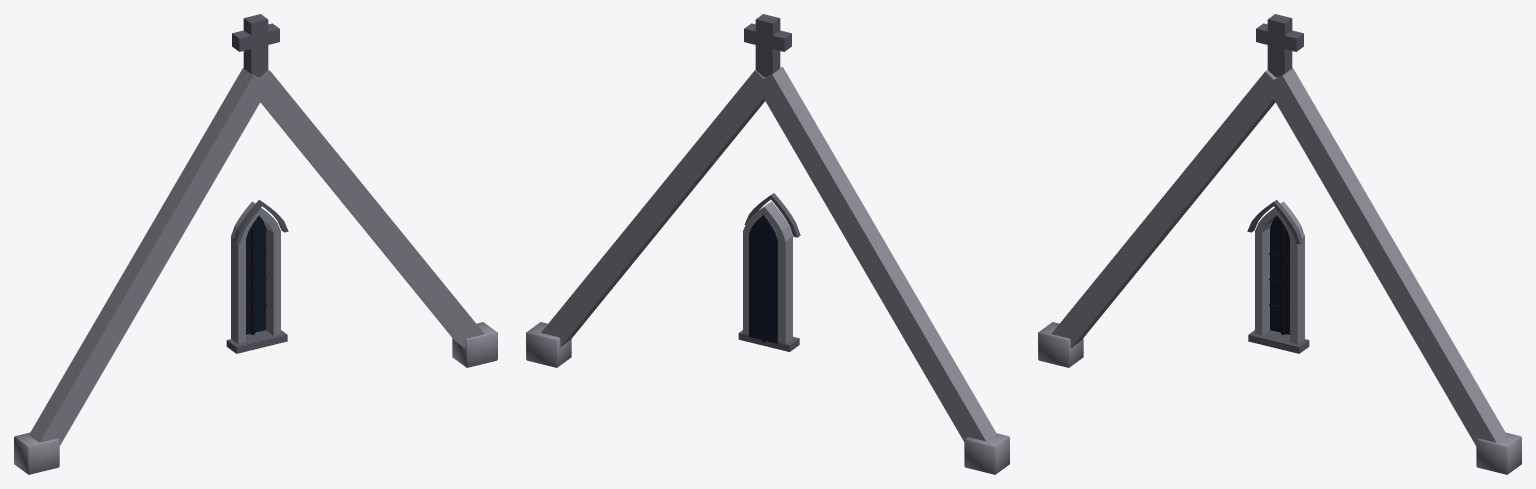
File: kit_church_gable_w4.glb
3 views of the same model, side by side, from view 1: azimuth 30°, elevation 25°; view 2: azimuth 150°, elevation 25°; view 3: azimuth 330°, elevation 25° (orthographic).
Visible parts, largest first — view 1: kit_church_gable_w4; view 2: kit_church_gable_w4; view 3: kit_church_gable_w4.
Part boxes in pixels (x1,y1,x2,y2): kit_church_gable_w4: (14, 14, 497, 474); kit_church_gable_w4: (526, 14, 1009, 474); kit_church_gable_w4: (1038, 14, 1521, 474).
Bounding box in the file's own units: 4.42 × 3.55 × 0.24.
